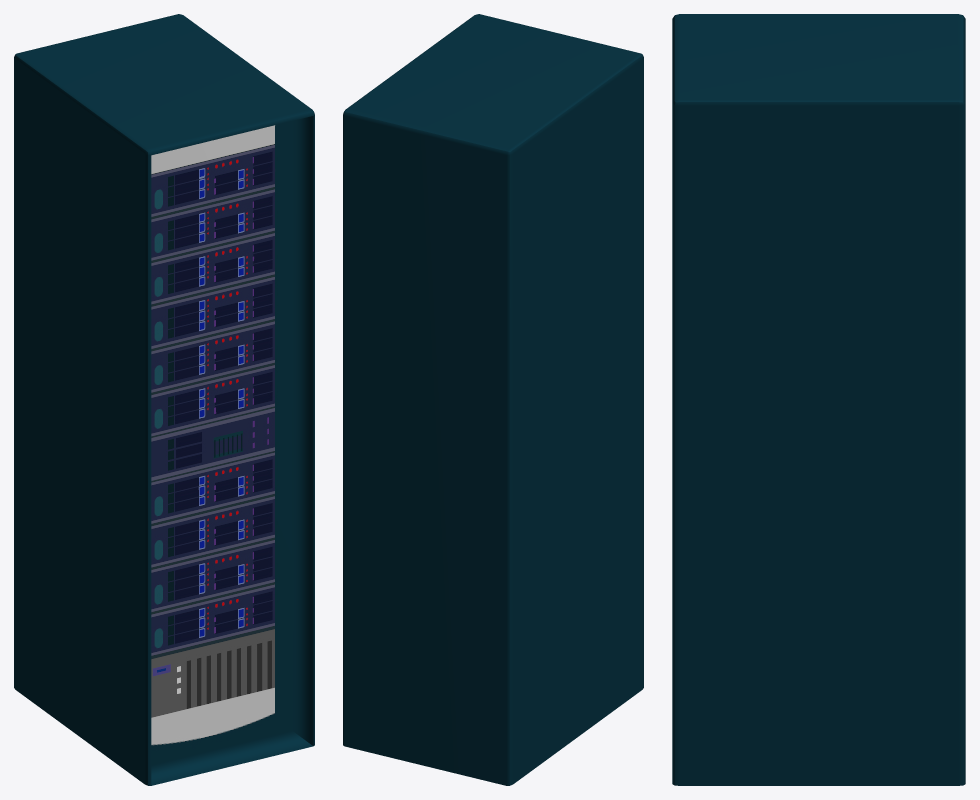
The model's file is SERVER.obj.
3 views of the same model, side by side, from view 1: azimuth 30°, elevation 25°; view 2: azimuth 150°, elevation 25°; view 3: azimuth 270°, elevation 25° (orthographic). The views are drawn at different scales.
Bounding box in the file's own units: 0.572 × 2.05 × 0.7968.
Materials: 1 (1 with a texture image).
